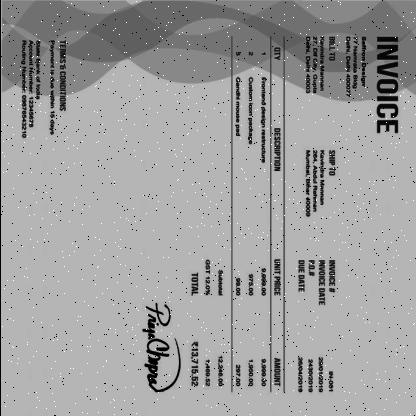Paragraph: (297, 259, 334, 393), (18, 38, 66, 140), (188, 256, 224, 388), (375, 34, 399, 134), (304, 150, 335, 218), (304, 35, 335, 94), (344, 35, 366, 98)
Table: (231, 35, 283, 392)
